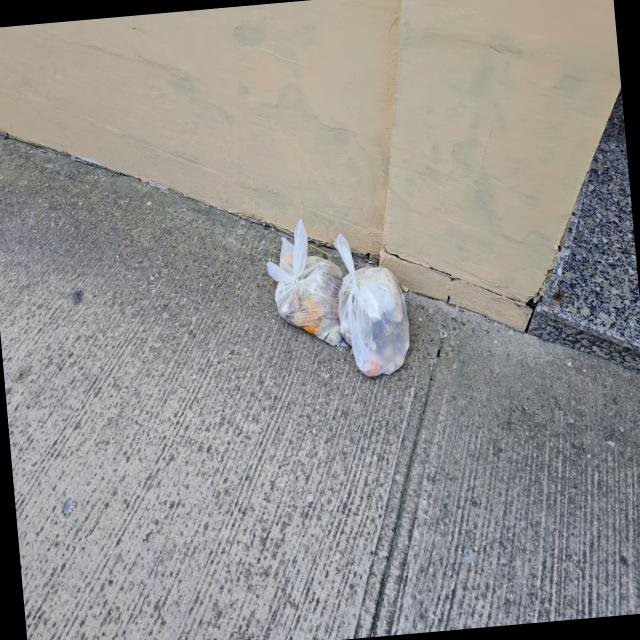white_bag: (330, 225, 418, 383), (260, 210, 351, 356)
